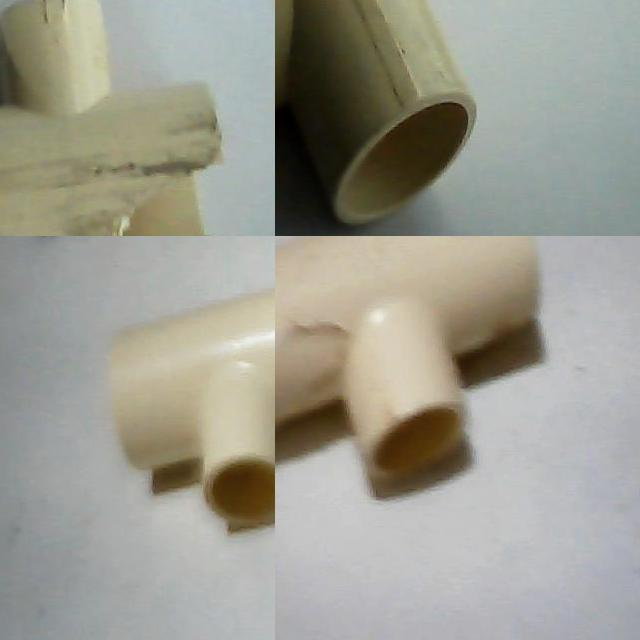Defective: (111, 153, 226, 236), (275, 314, 351, 402)
T Joint: (275, 236, 538, 473), (0, 0, 224, 236), (275, 0, 478, 229), (110, 288, 275, 532)
